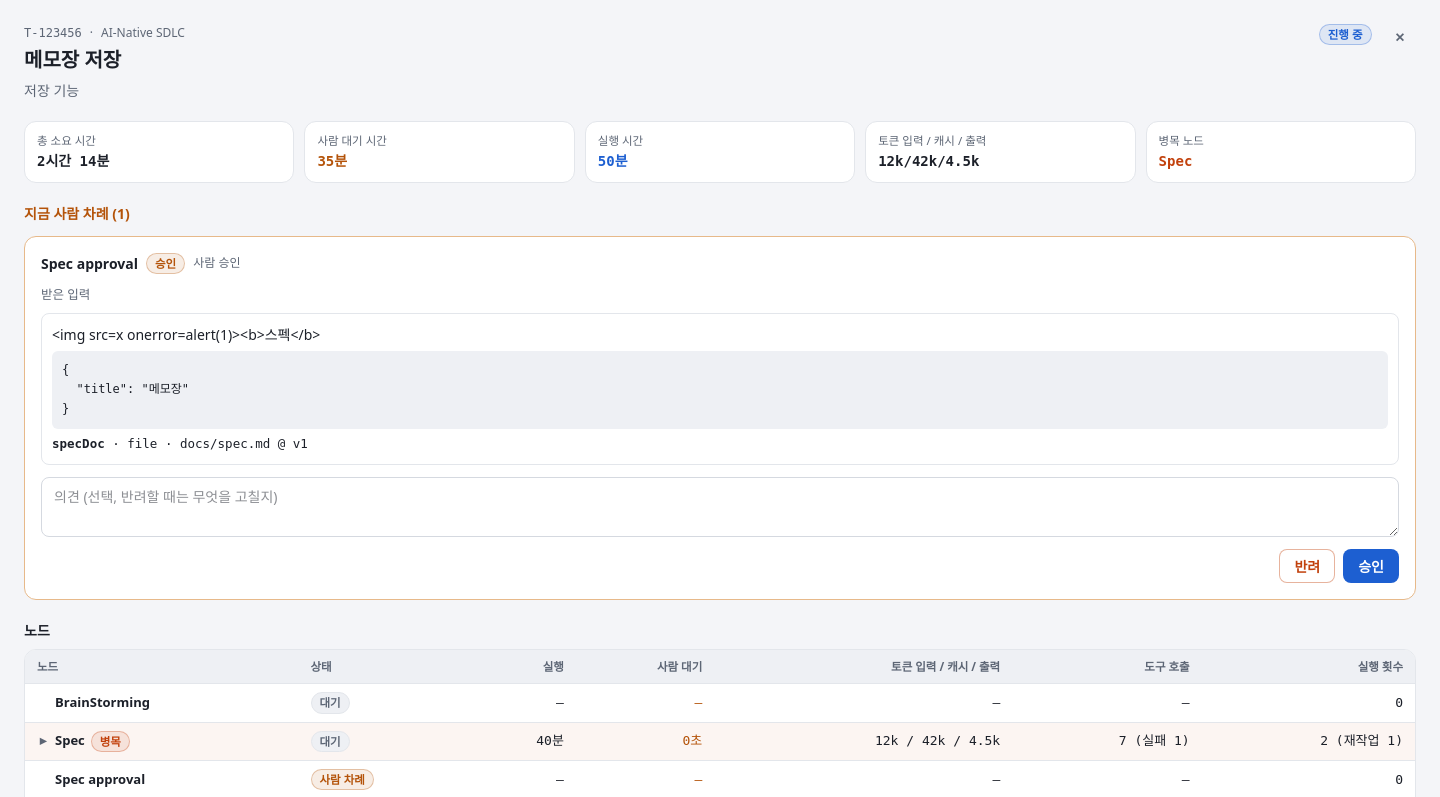
Test: ticket detail › a decision refused because the screen was behind refreshes the ticket and says so
Click the button "승인": point(1371, 566) top-left (1343, 549), bottom-right (1399, 583)
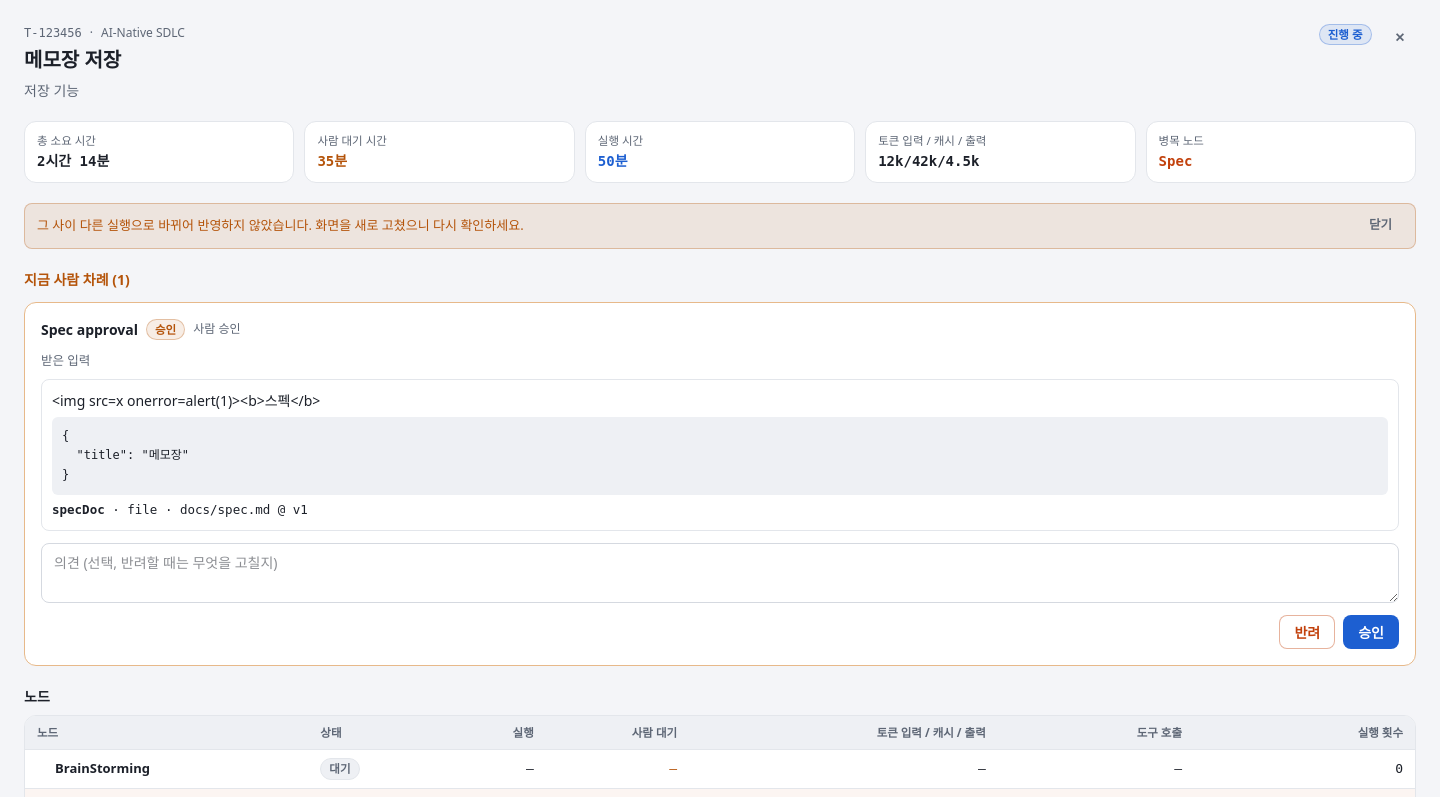
Expected: the text "그 사이 다른 실행으로 바뀌어 반영하지 않았습니다. 화면을 새로 고쳤으니 다시 확인하세요." is shown, top-left (37, 216), bottom-right (524, 234)
